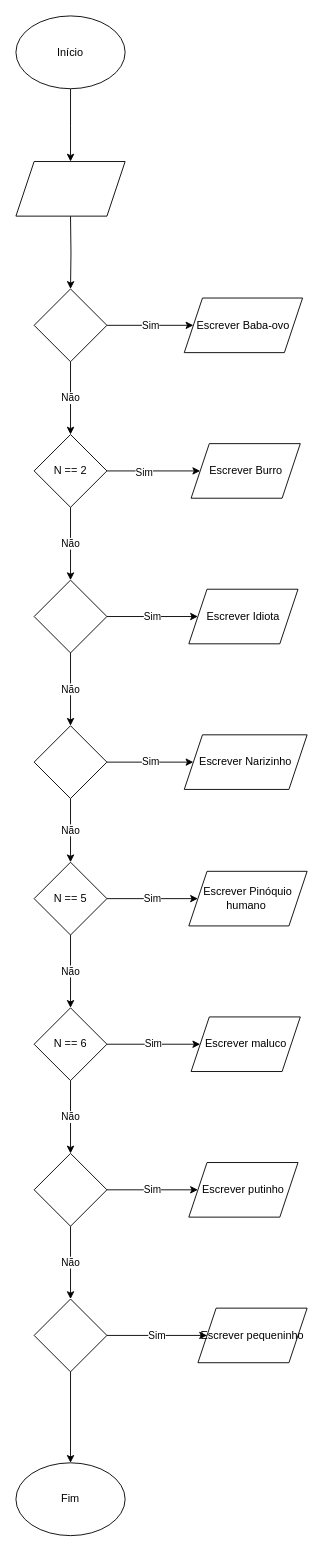
Some shapes in this 323 by 1552 pixel diagram are drawn without their labels. The shapes that lost their labels are listed below. From the top down, each one's centre as x and y in pixels, then its label:
At pixel 70 188: "Ler N".
At pixel 70 325: "N == 1".
At pixel 70 616: "N == 3".
At pixel 70 762: "N == 4".
At pixel 70 1189: "N == 7".
At pixel 70 1335: "N == 8".
